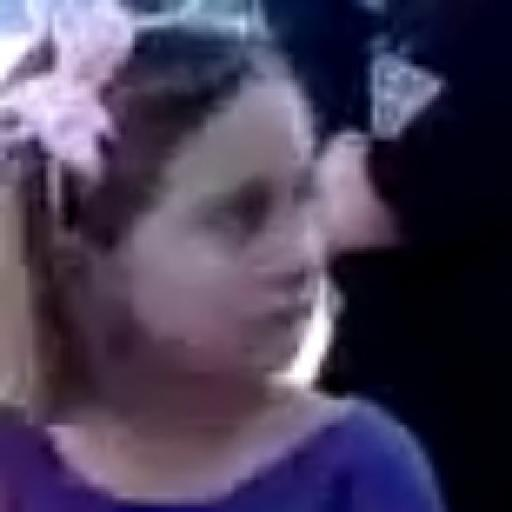Autism: (0, 0, 428, 512)
